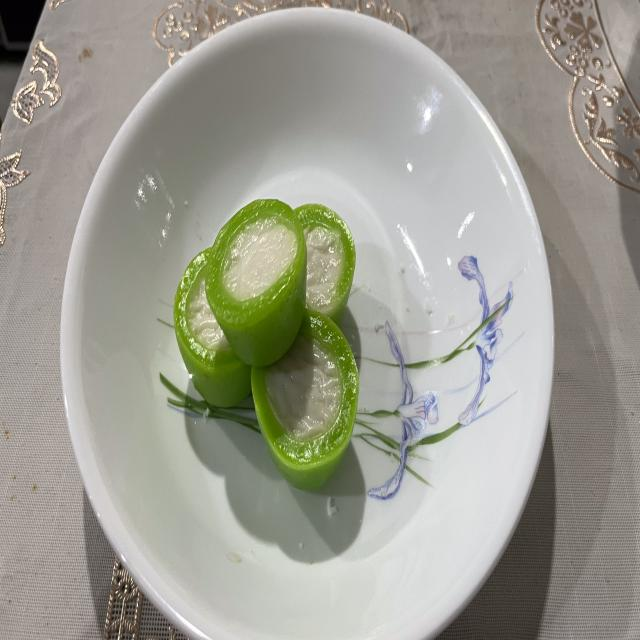nona-manis: (251, 311, 359, 489), (205, 200, 306, 367), (174, 249, 251, 407), (295, 204, 355, 327)
